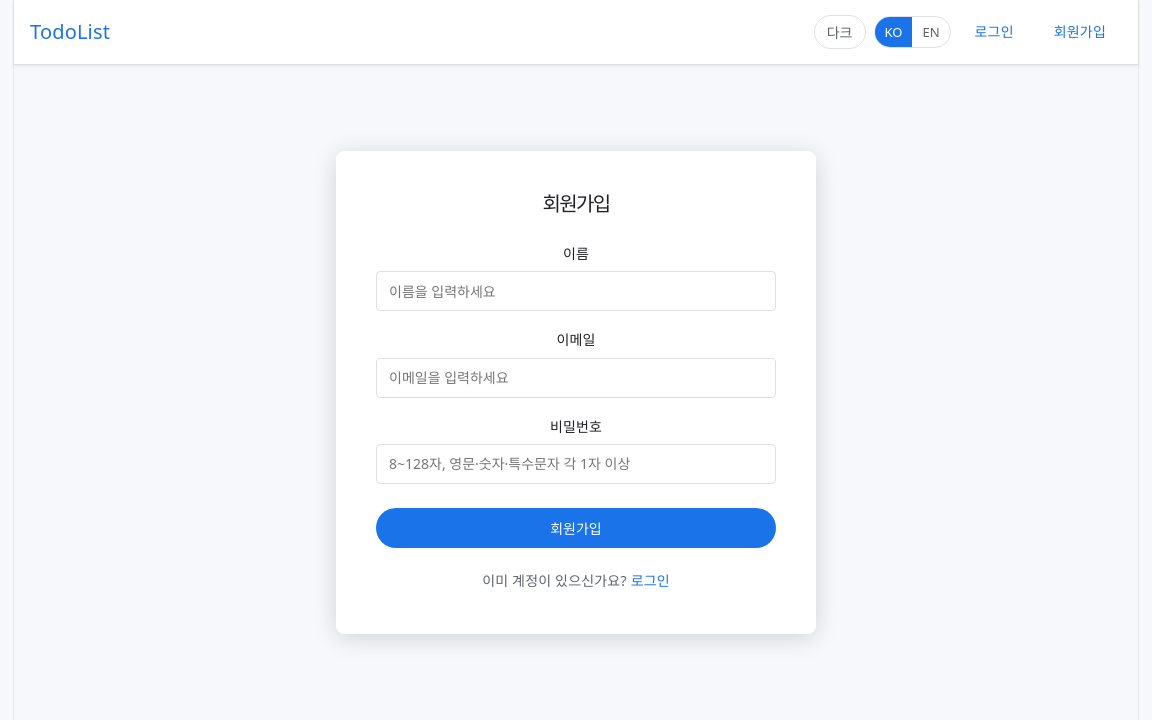
Test: RegisterPage › 비밀번호 blur 시 강도 미달 메시지를 표시한다
This screenshot has width=1152, height=720.
In the password field labelled "비밀번호": (576, 464) [376, 444, 776, 484], type "short"
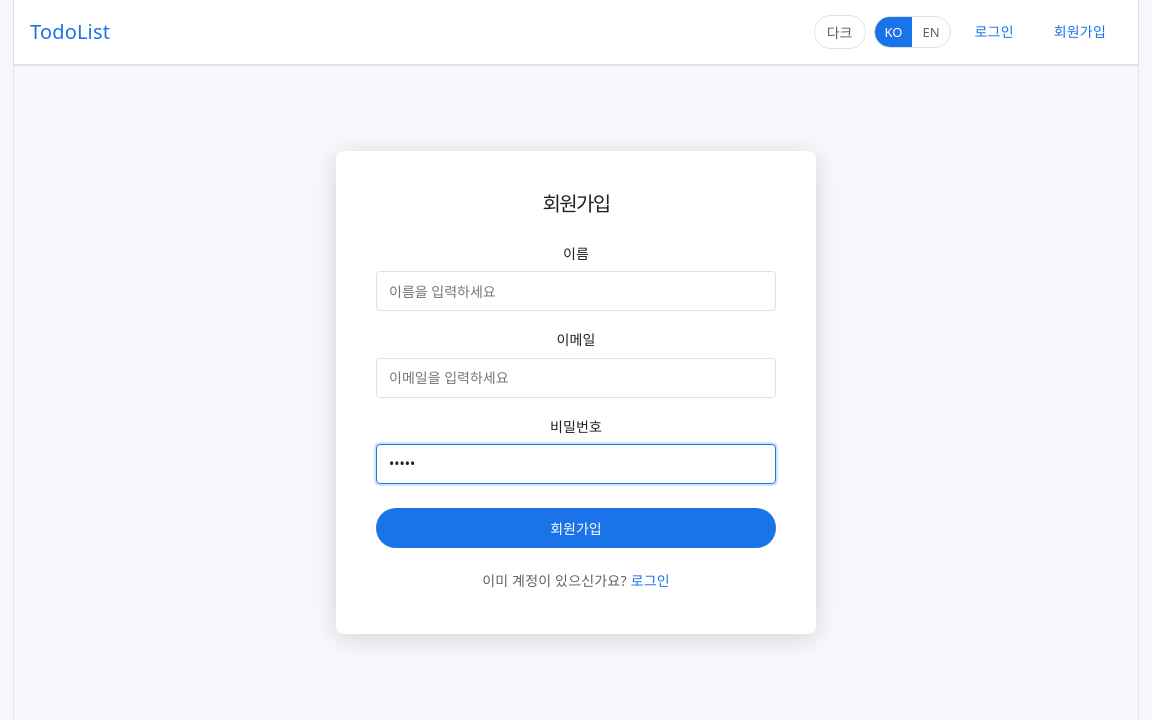
Press Tab
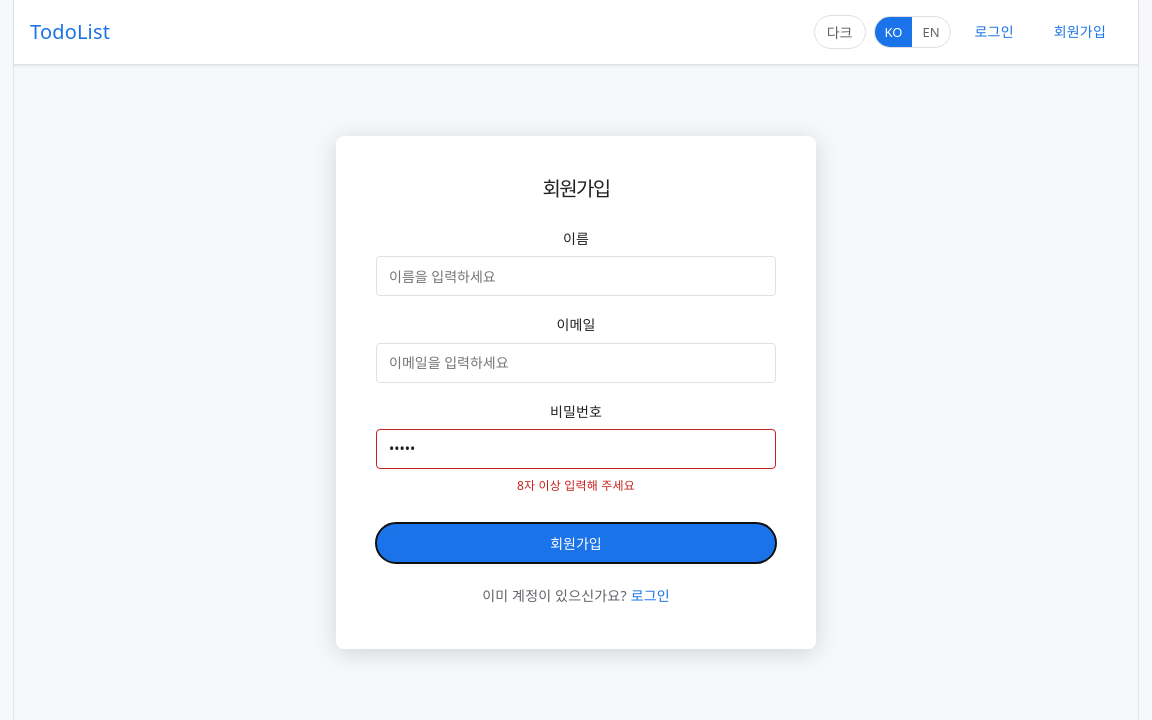
Expected: the text "8자 이상 입력해 주세요" is shown, [517, 477, 635, 494]
